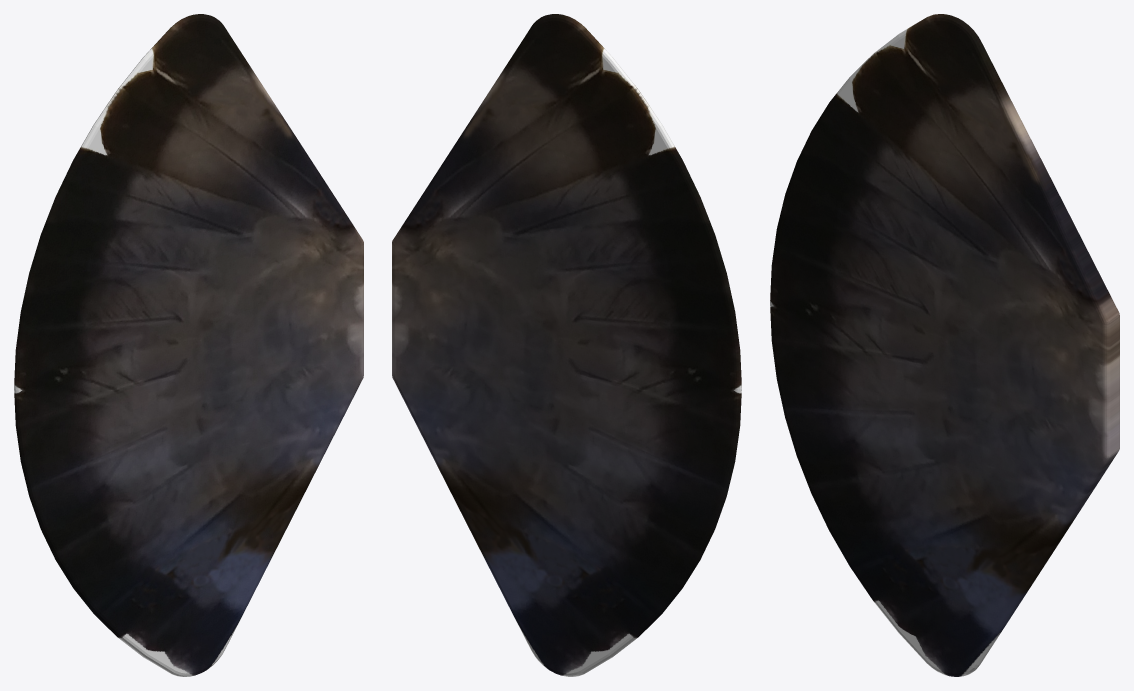
File: tail_texture.dae
3 renders of one model, left to right at view 1: azimuth 30°, elevation 25°; view 2: azimuth 150°, elevation 25°; view 3: azimuth 330°, elevation 25°, orthographic.
Visible parts, largest first — view 1: SketchUp; view 2: SketchUp; view 3: SketchUp.
Part boxes in pixels (x1=…): SketchUp: x1=14, y1=14, x2=363, y2=676; SketchUp: x1=392, y1=14, x2=741, y2=676; SketchUp: x1=770, y1=14, x2=1119, y2=676.
Size of the model in its own units: 5.55 by 0.4016 by 10.16.
1 material, 1 textured.
